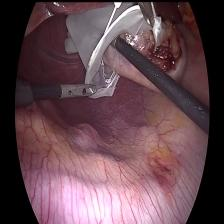Grasper: (54, 80, 96, 99)
Specimen Bag: (82, 0, 147, 100)
